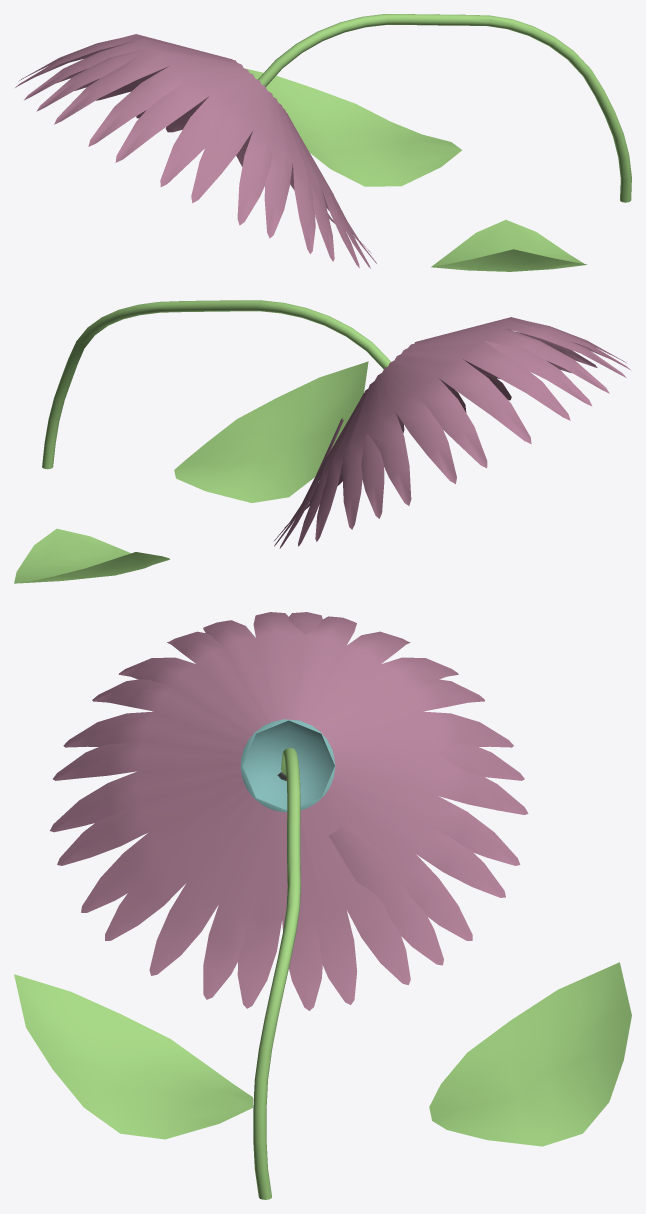
File: SM_Flower04_Dead.fbx
3 views of the same model, one above another, from view 1: azimuth 30°, elevation 25°; view 2: azimuth 150°, elevation 25°; view 3: azimuth 270°, elevation 25° (orthographic). The views are drawn at different scales.
Visible parts, largest first — view 1: SM_Flower004; view 2: SM_Flower004; view 3: SM_Flower004.
Boxes of the visible parts, <box> form: SM_Flower004: <box>15,14,631,271</box>; SM_Flower004: <box>14,300,630,583</box>; SM_Flower004: <box>14,612,631,1199</box>.
Size of the model in its own units: 44.36 by 18.83 by 34.96.
